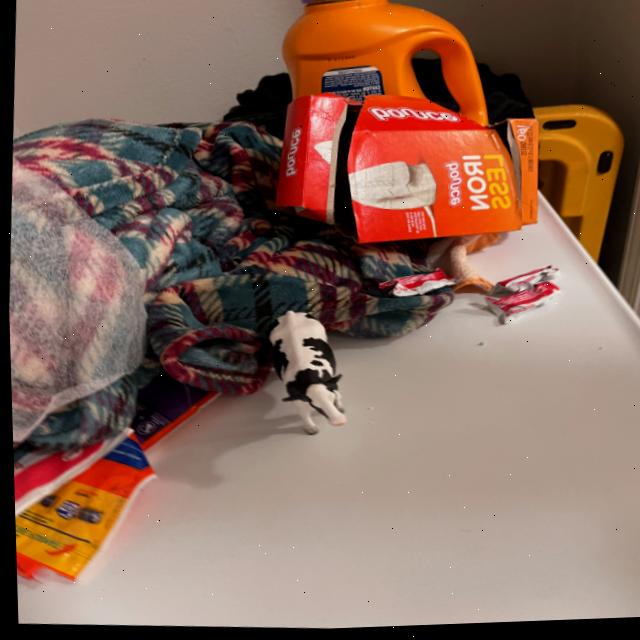cow: (256, 304, 352, 442), (292, 359, 298, 364)
